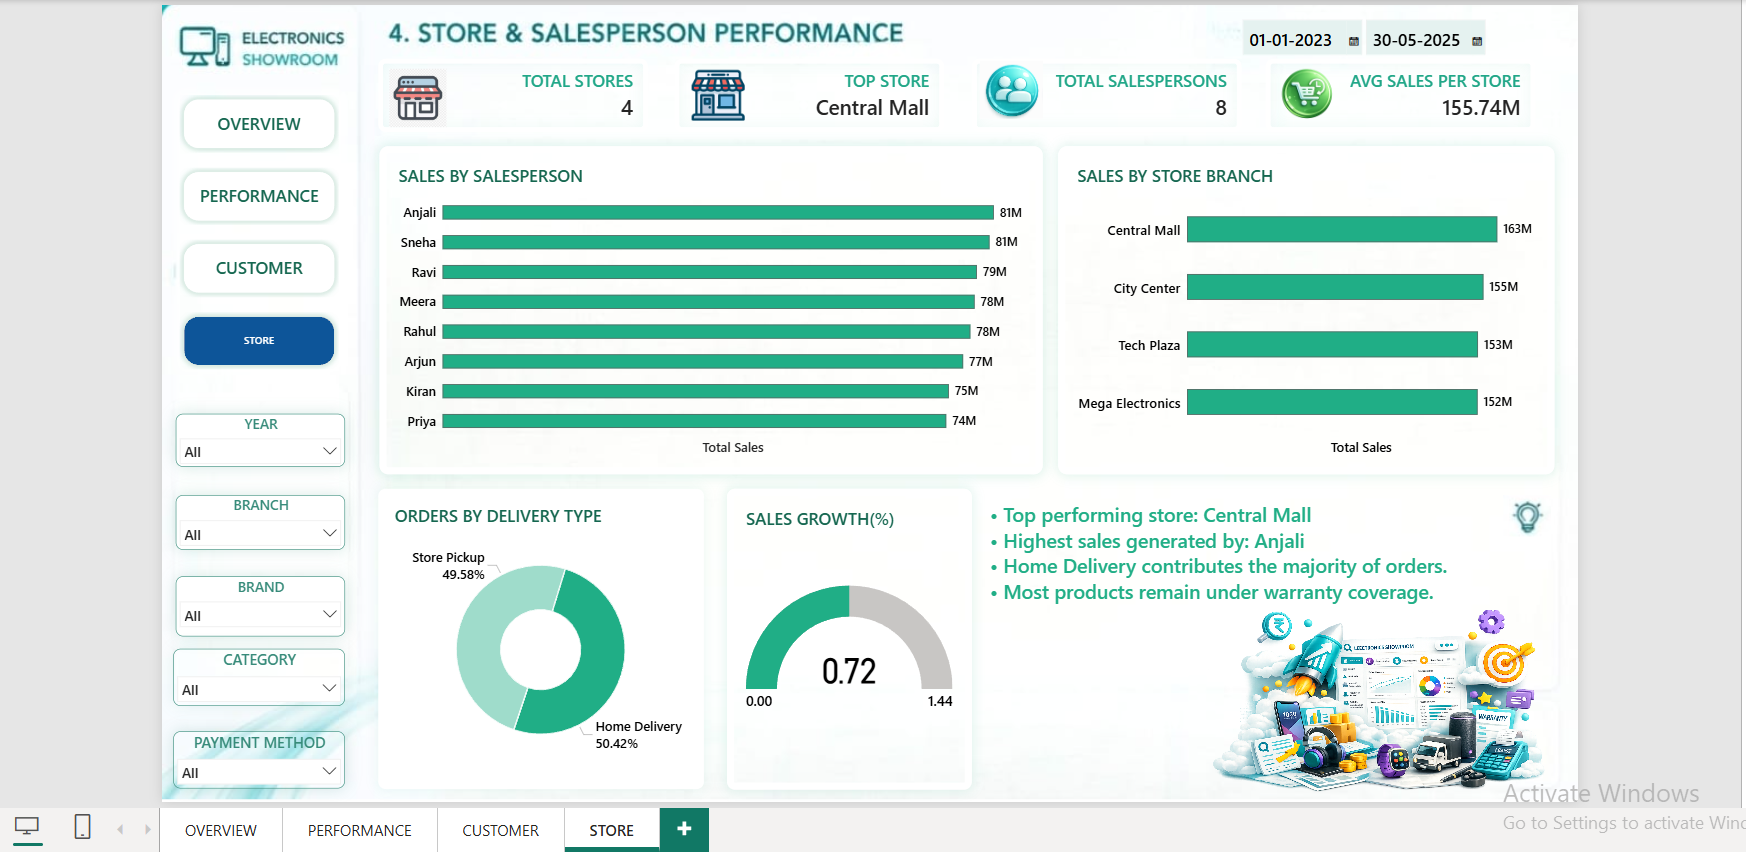

What the dashboard file says about the page in this screenshot:
{"tool":"powerbi","page":{"name":"STORE","canvas":[1920,1080],"ordinal":3},"visuals":[{"type":"clusteredBarChart","title":"SALES BY STORE BRANCH","fields":{"Category":["electronic.Store_Branch"],"Y":["electronic.Total Sales"]},"box":[1216.1,191.8,673.2,445.2],"z":0},{"type":"clusteredBarChart","title":"SALES BY SALESPERSON","fields":{"Category":["electronic.Salesperson"],"Y":["electronic.Total Sales"]},"box":[295,191.8,899.4,445.2],"z":1000},{"type":"donutChart","title":"ORDERS BY DELIVERY TYPE","fields":{"Category":["electronic.Delivery_Type"],"Y":["Date_Table.Delivery Orders"]},"box":[293.2,655.1,441.6,407.2],"z":2000},{"type":"cardVisual","fields":{"Data":["Date_Table.Total Stores"]},"box":[293.2,72.4,365.6,99.5],"z":3000},{"type":"cardVisual","fields":{"Data":["Date_Table.Total Salespersons"]},"box":[1098.5,72.4,365.6,99.5],"z":4000},{"type":"cardVisual","fields":{"Data":["electronic.Avg Sales Per Store"]},"box":[1496.6,72.4,365.6,99.5],"z":5000},{"type":"cardVisual","fields":{"Data":["electronic.Top Store"]},"box":[694.9,72.4,365.6,99.5],"z":6000},{"type":"cardVisual","fields":{"Data":["Date_Table.Store Insights"]},"box":[1107.9,664.7,775.5,398.8],"z":7000},{"type":"gauge","title":"SALES GROWTH(%)","fields":{"Y":["electronic.Sales Growth %"]},"box":[766.3,655.5,332.4,408.1],"z":8000},{"type":"image","box":[1414.4,819.9,472.7,260.4],"z":9000},{"type":"image","box":[1818.8,655.5,64.6,73.9],"z":10000},{"type":"image","box":[275.1,86.8,144,79.4],"z":11000},{"type":"image","box":[694.3,86.8,118.2,72],"z":12000},{"type":"image","box":[1107.9,72,86.8,86.8],"z":13000},{"type":"image","box":[1512.3,77.6,79.4,88.6],"z":14000},{"type":"slicer","title":"YEAR","fields":{"Values":["Date_Table.Year"]},"box":[18.1,553.8,229.8,72.4],"z":15000},{"type":"slicer","title":"BRANCH","fields":{"Values":["electronic.Store_Branch"]},"box":[18.1,664.1,229.8,74.2],"z":16000},{"type":"slicer","title":"BRAND","fields":{"Values":["electronic.Brand"]},"box":[18.1,774.5,229.8,81.4],"z":17000},{"type":"slicer","title":"PAYMENT METHOD","fields":{"Values":["electronic.Payment_Mode"]},"box":[15.9,985.3,232.7,77.6],"z":18000},{"type":"slicer","title":"CATEGORY","fields":{"Values":["electronic.Product_Category"]},"box":[15.9,872.7,232.7,77.6],"z":19000},{"type":"pageNavigator","box":[24,121.9,216,373],"z":19001},{"type":"slicer","fields":{"Values":["Date_Table.Date"]},"box":[1458,16,388,52],"z":19002}]}

Visuals, with their boxes on the page's 1920x1080 design canvas (x1, y1, x2, y2). These are canvas units, not pixel positions in the 1746x852 screenshot, which may show the page scaled, cropped or inside an application window:
"SALES BY STORE BRANCH" clusteredBarChart: bbox=[1216, 192, 1889, 637]
"SALES BY SALESPERSON" clusteredBarChart: bbox=[295, 192, 1194, 637]
"ORDERS BY DELIVERY TYPE" donutChart: bbox=[293, 655, 735, 1062]
cardVisual - Date_Table.Total Stores: bbox=[293, 72, 659, 172]
cardVisual - Date_Table.Total Salespersons: bbox=[1098, 72, 1464, 172]
cardVisual - electronic.Avg Sales Per Store: bbox=[1497, 72, 1862, 172]
cardVisual - electronic.Top Store: bbox=[695, 72, 1060, 172]
cardVisual - Date_Table.Store Insights: bbox=[1108, 665, 1883, 1064]
"SALES GROWTH(%)" gauge: bbox=[766, 656, 1099, 1064]
image: bbox=[1414, 820, 1887, 1080]
image: bbox=[1819, 656, 1883, 729]
image: bbox=[275, 87, 419, 166]
image: bbox=[694, 87, 812, 159]
image: bbox=[1108, 72, 1195, 159]
image: bbox=[1512, 78, 1592, 166]
"YEAR" slicer: bbox=[18, 554, 248, 626]
"BRANCH" slicer: bbox=[18, 664, 248, 738]
"BRAND" slicer: bbox=[18, 774, 248, 856]
"PAYMENT METHOD" slicer: bbox=[16, 985, 249, 1063]
"CATEGORY" slicer: bbox=[16, 873, 249, 950]
pageNavigator: bbox=[24, 122, 240, 495]
slicer - Date_Table.Date: bbox=[1458, 16, 1846, 68]
